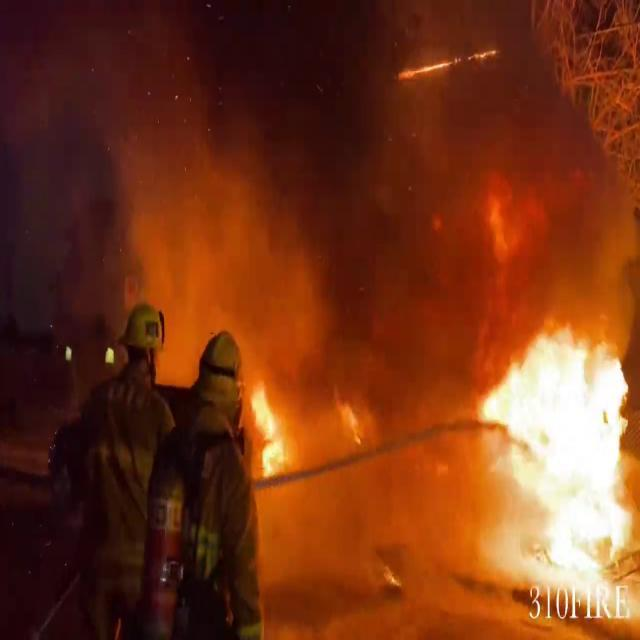Fire: (425, 308, 640, 627), (243, 374, 300, 490)
Smoke: (61, 2, 344, 358), (348, 0, 628, 348)
